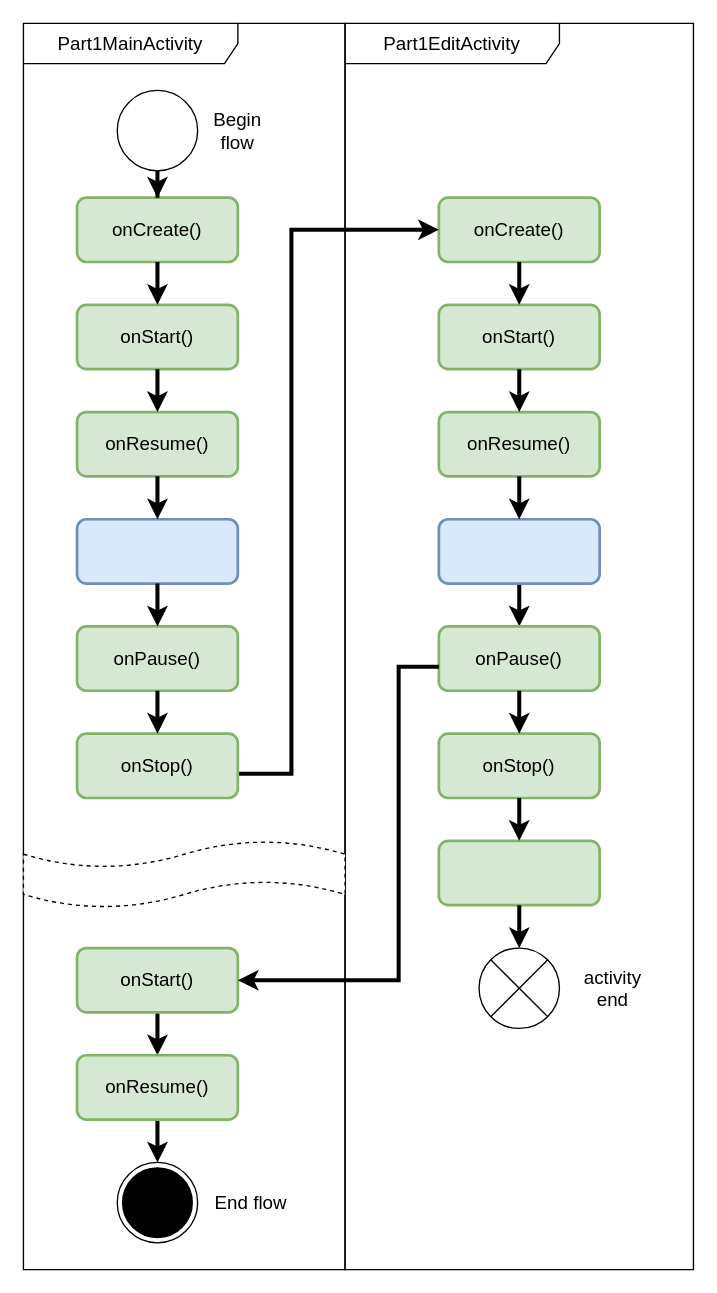
Some shapes in this 717 by 1293 pixel diagram are drawn without their labels. Each missing label, with the centre of its shape:
onDestroy(): point 518,872
User clicks on edit: point 157,550
User clicks on save: point 518,550
